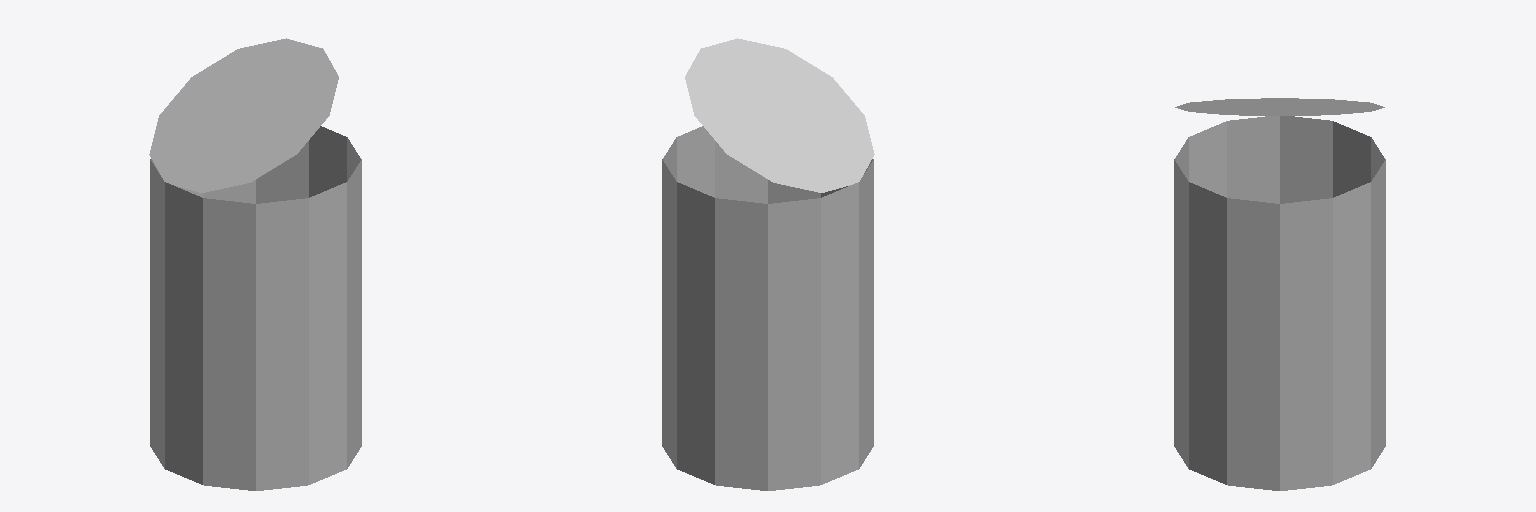
The model's file is newtest.obj.
3 renders of one model, left to right at view 1: azimuth 30°, elevation 25°; view 2: azimuth 150°, elevation 25°; view 3: azimuth 270°, elevation 25°, orthographic.
Visible parts, largest first — view 1: can, Regroup05; view 2: can, Regroup05; view 3: can, Regroup05.
Part boxes in pixels (x1,y1,x2,y2): can: (150,126,361,490); Regroup05: (149,38,338,192); can: (662,126,873,490); Regroup05: (685,38,874,192); can: (1174,116,1385,490); Regroup05: (1175,98,1384,115).
Bounding box in the file's own units: 20 × 39.91 × 20.